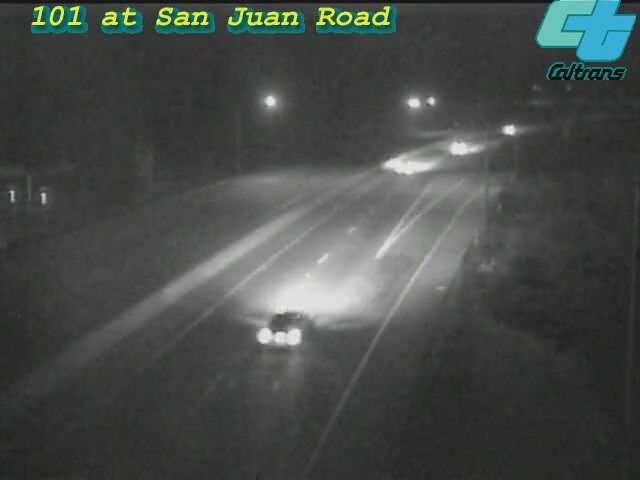vehicle: (227, 276, 337, 386), (366, 128, 446, 208), (484, 106, 534, 156), (434, 123, 484, 173)
